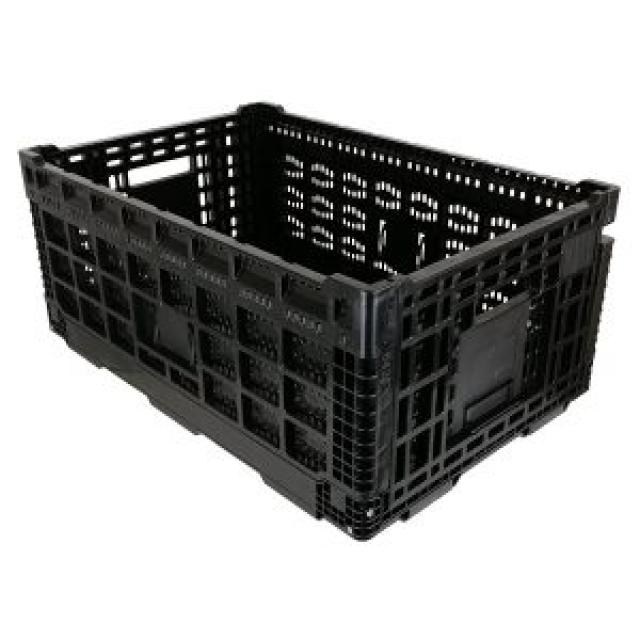basket: (0, 50, 638, 583)
